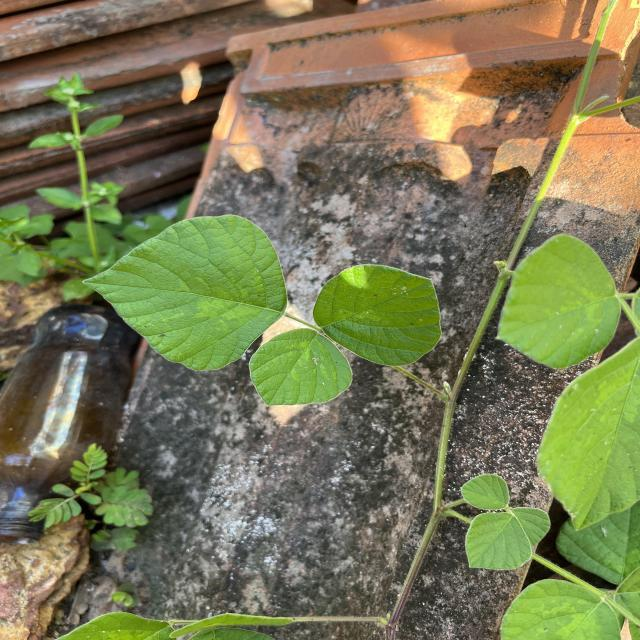Pseudarthria viscida: (78, 211, 444, 408)
